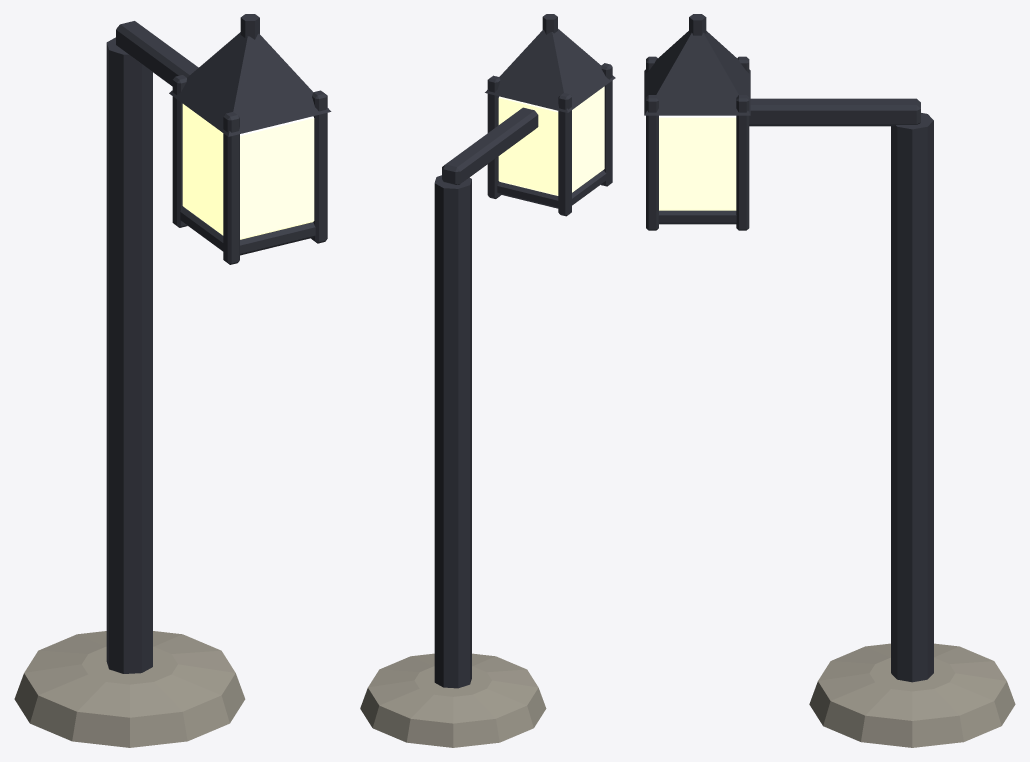
Rendered from lantern.fbx.
3 renders of one model, left to right at view 1: azimuth 30°, elevation 25°; view 2: azimuth 150°, elevation 25°; view 3: azimuth 270°, elevation 25°, orthographic. The views are drawn at different scales.
Visible parts, largest first — view 1: lantern; view 2: lantern; view 3: lantern.
Boxes of the visible parts, x1,y1,x2,y2 form: lantern: [14, 14, 331, 747]; lantern: [360, 14, 615, 747]; lantern: [644, 14, 1015, 747].
Bounding box in the file's own units: 48 × 177 × 86.37.
